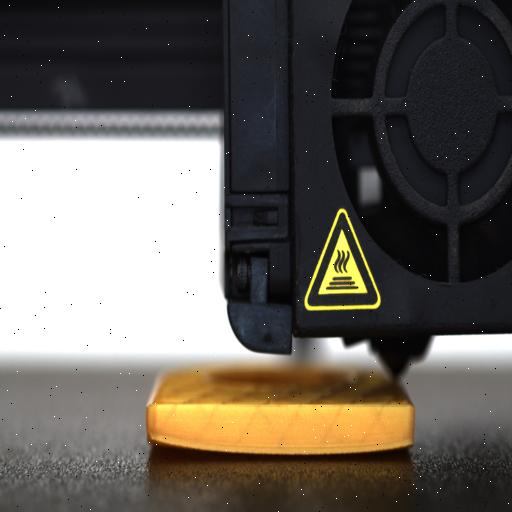warp: (144, 429, 204, 457), (360, 435, 420, 459)
